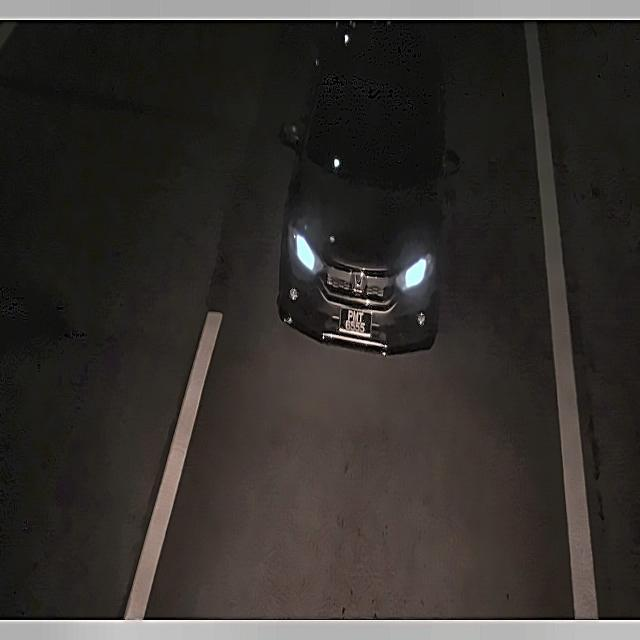car: (339, 303, 371, 345)
